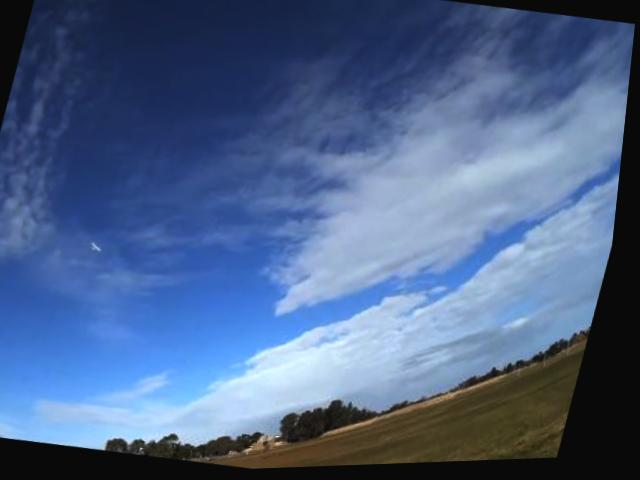uav: (88, 235, 115, 259)
